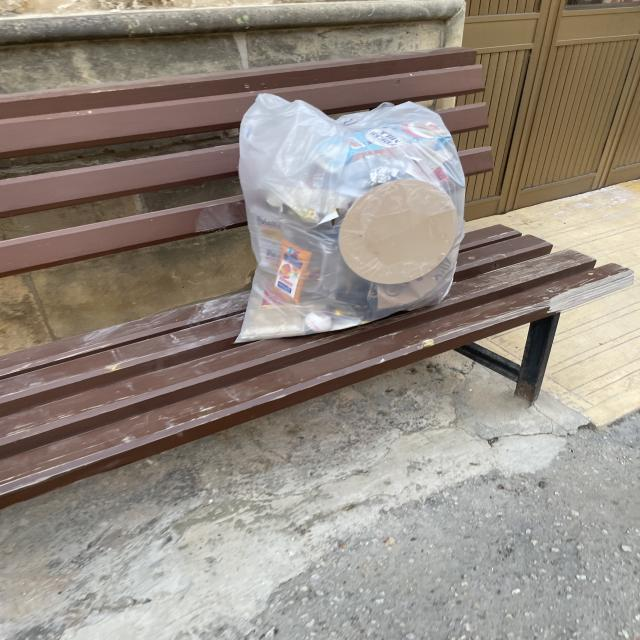grey_bag: (231, 88, 469, 343)
